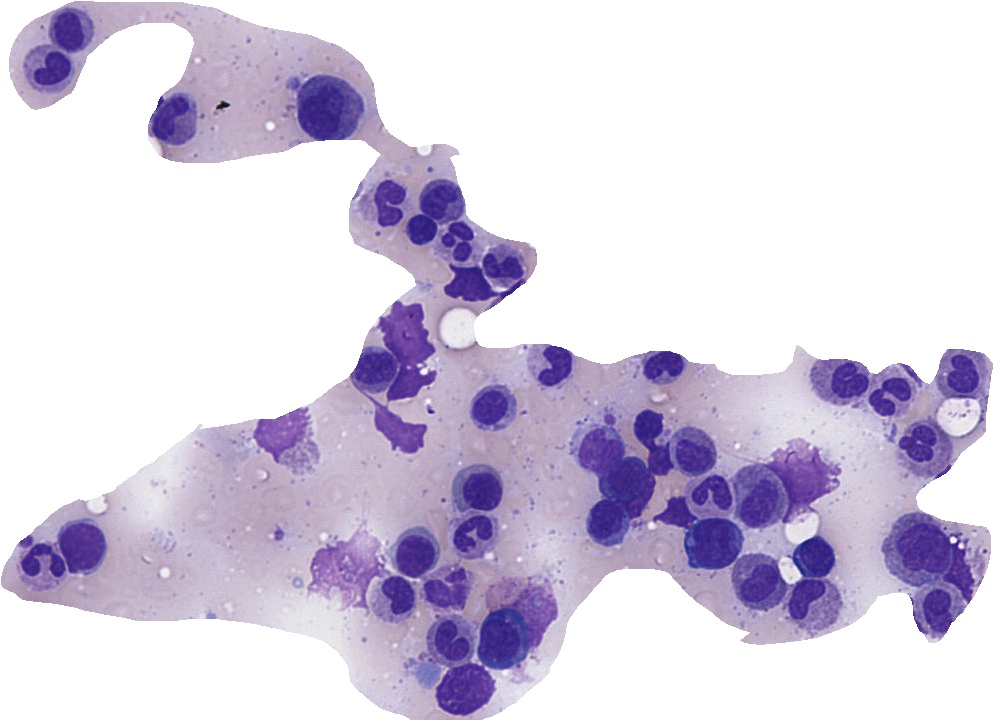objectness: (522, 342, 572, 392), (445, 508, 495, 558), (433, 215, 483, 265), (862, 368, 912, 418), (359, 179, 409, 229), (640, 339, 690, 389), (894, 418, 944, 468), (421, 619, 471, 669), (938, 353, 988, 403), (685, 469, 735, 519), (12, 537, 62, 587), (814, 357, 864, 407), (415, 175, 465, 225), (733, 473, 783, 523), (466, 384, 516, 434), (44, 5, 94, 55), (914, 585, 964, 635), (784, 578, 834, 628), (668, 430, 718, 480), (367, 573, 417, 623), (150, 95, 200, 145), (22, 43, 72, 93), (475, 239, 525, 289), (733, 558, 783, 608), (688, 520, 738, 570), (936, 547, 986, 597), (511, 581, 561, 631), (378, 358, 428, 408), (253, 399, 303, 449), (571, 427, 621, 477), (790, 534, 840, 584), (634, 438, 684, 488), (366, 401, 416, 451), (777, 450, 827, 500), (650, 488, 700, 538), (438, 668, 488, 718), (625, 402, 675, 452), (321, 543, 371, 593), (383, 302, 433, 352), (422, 562, 472, 612), (581, 498, 631, 548), (442, 259, 492, 309), (345, 345, 395, 395), (600, 455, 650, 505), (54, 521, 104, 571), (394, 205, 444, 255), (451, 463, 501, 513), (390, 526, 440, 576), (300, 86, 350, 136), (891, 524, 941, 574)
